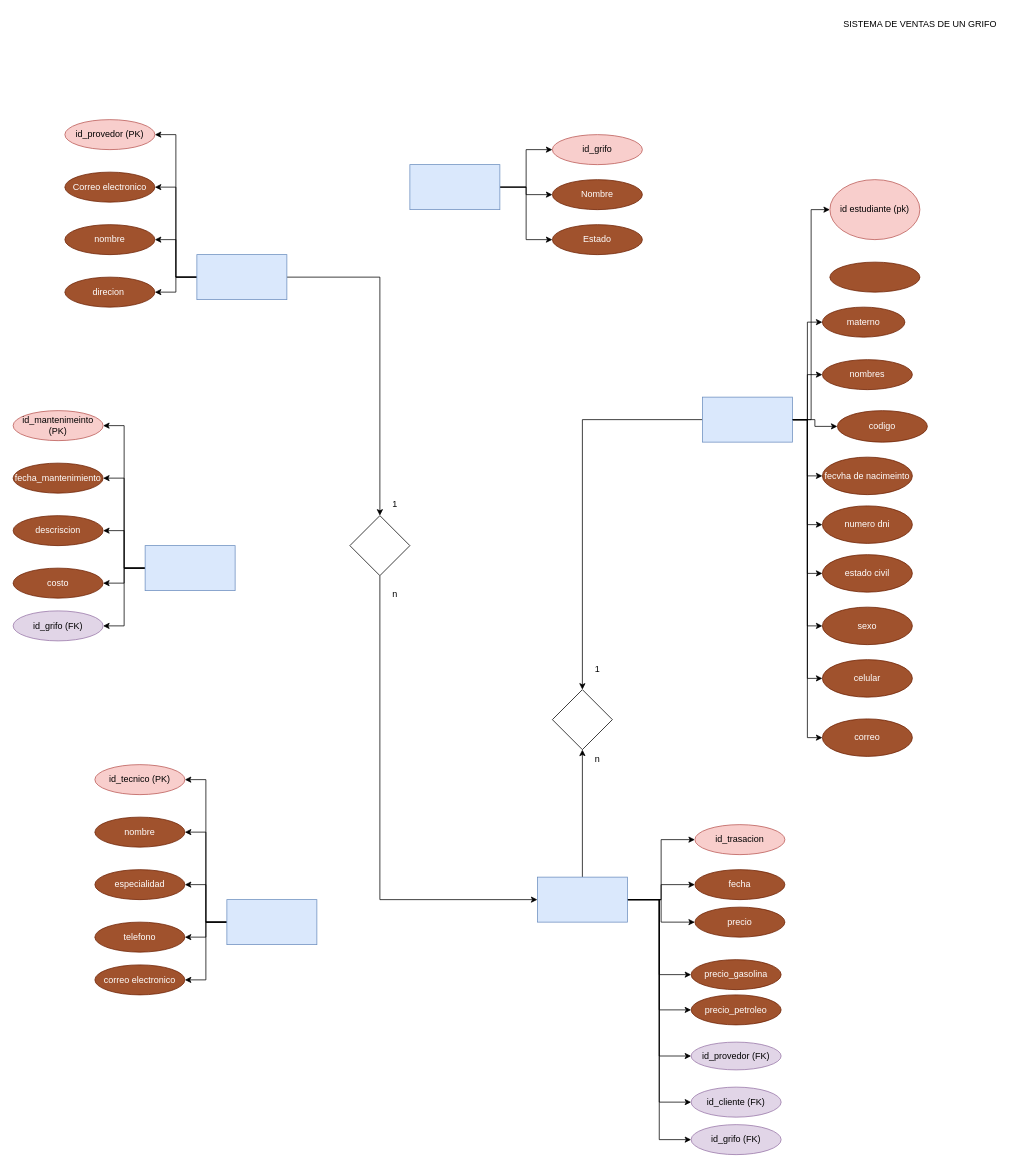
The diagram is 1019 pixels wide and 1168 high, and some of its shapes have lost their labels. The shapes that lost their labels are listed below. From the top down, each one's centre as x and y in pixels, then its label:
pixel 454 187: Grifo
pixel 241 277: proveedro
pixel 874 276: paterno
pixel 747 419: CLIENTE
pixel 189 568: Mantenimiento
pixel 582 899: trasasion
pixel 271 922: tecnico
